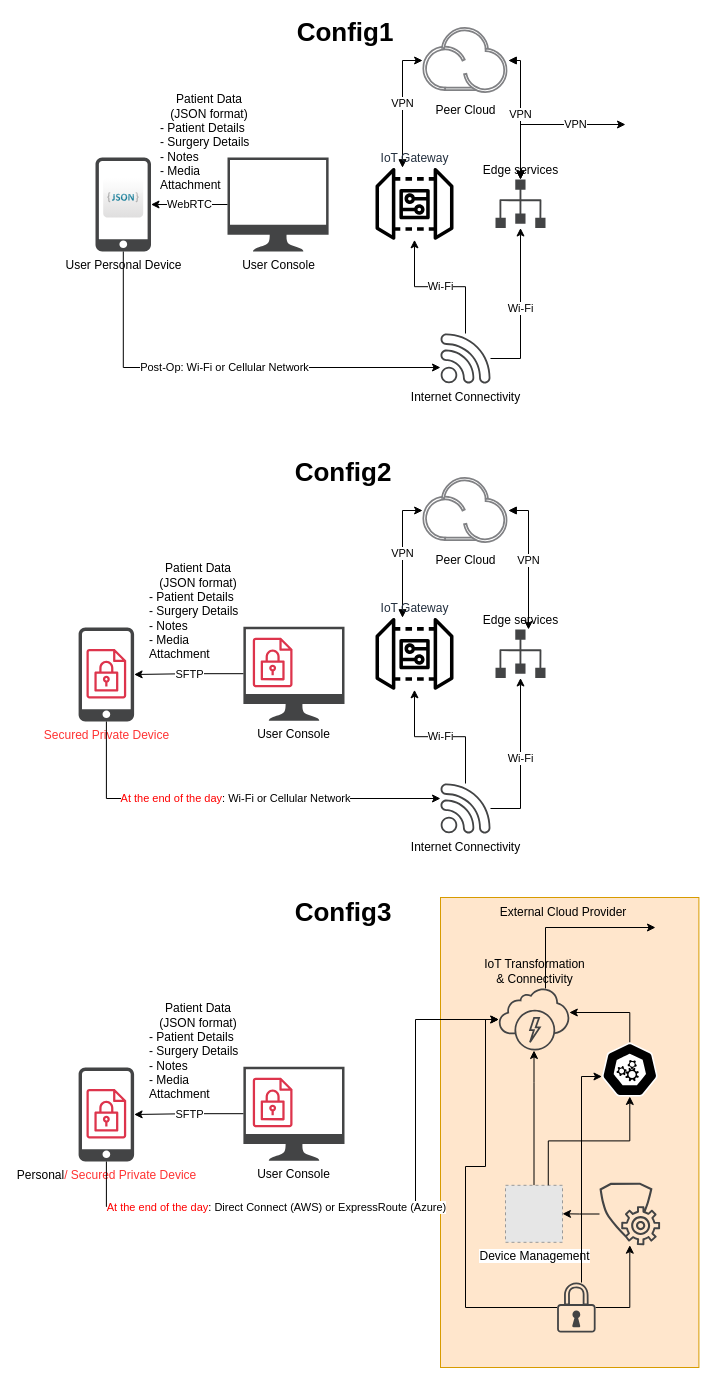
Image size: 717x1385. Some labels were removed from this diagram. Grey dashed boxes stand in for pictures. Here are the shapes that lost their labels. From the top down, the centre of each, then its label:
point 629,1069: API Management
point 629,1213: Device Identity Service
point 576,1307: Device Registry
